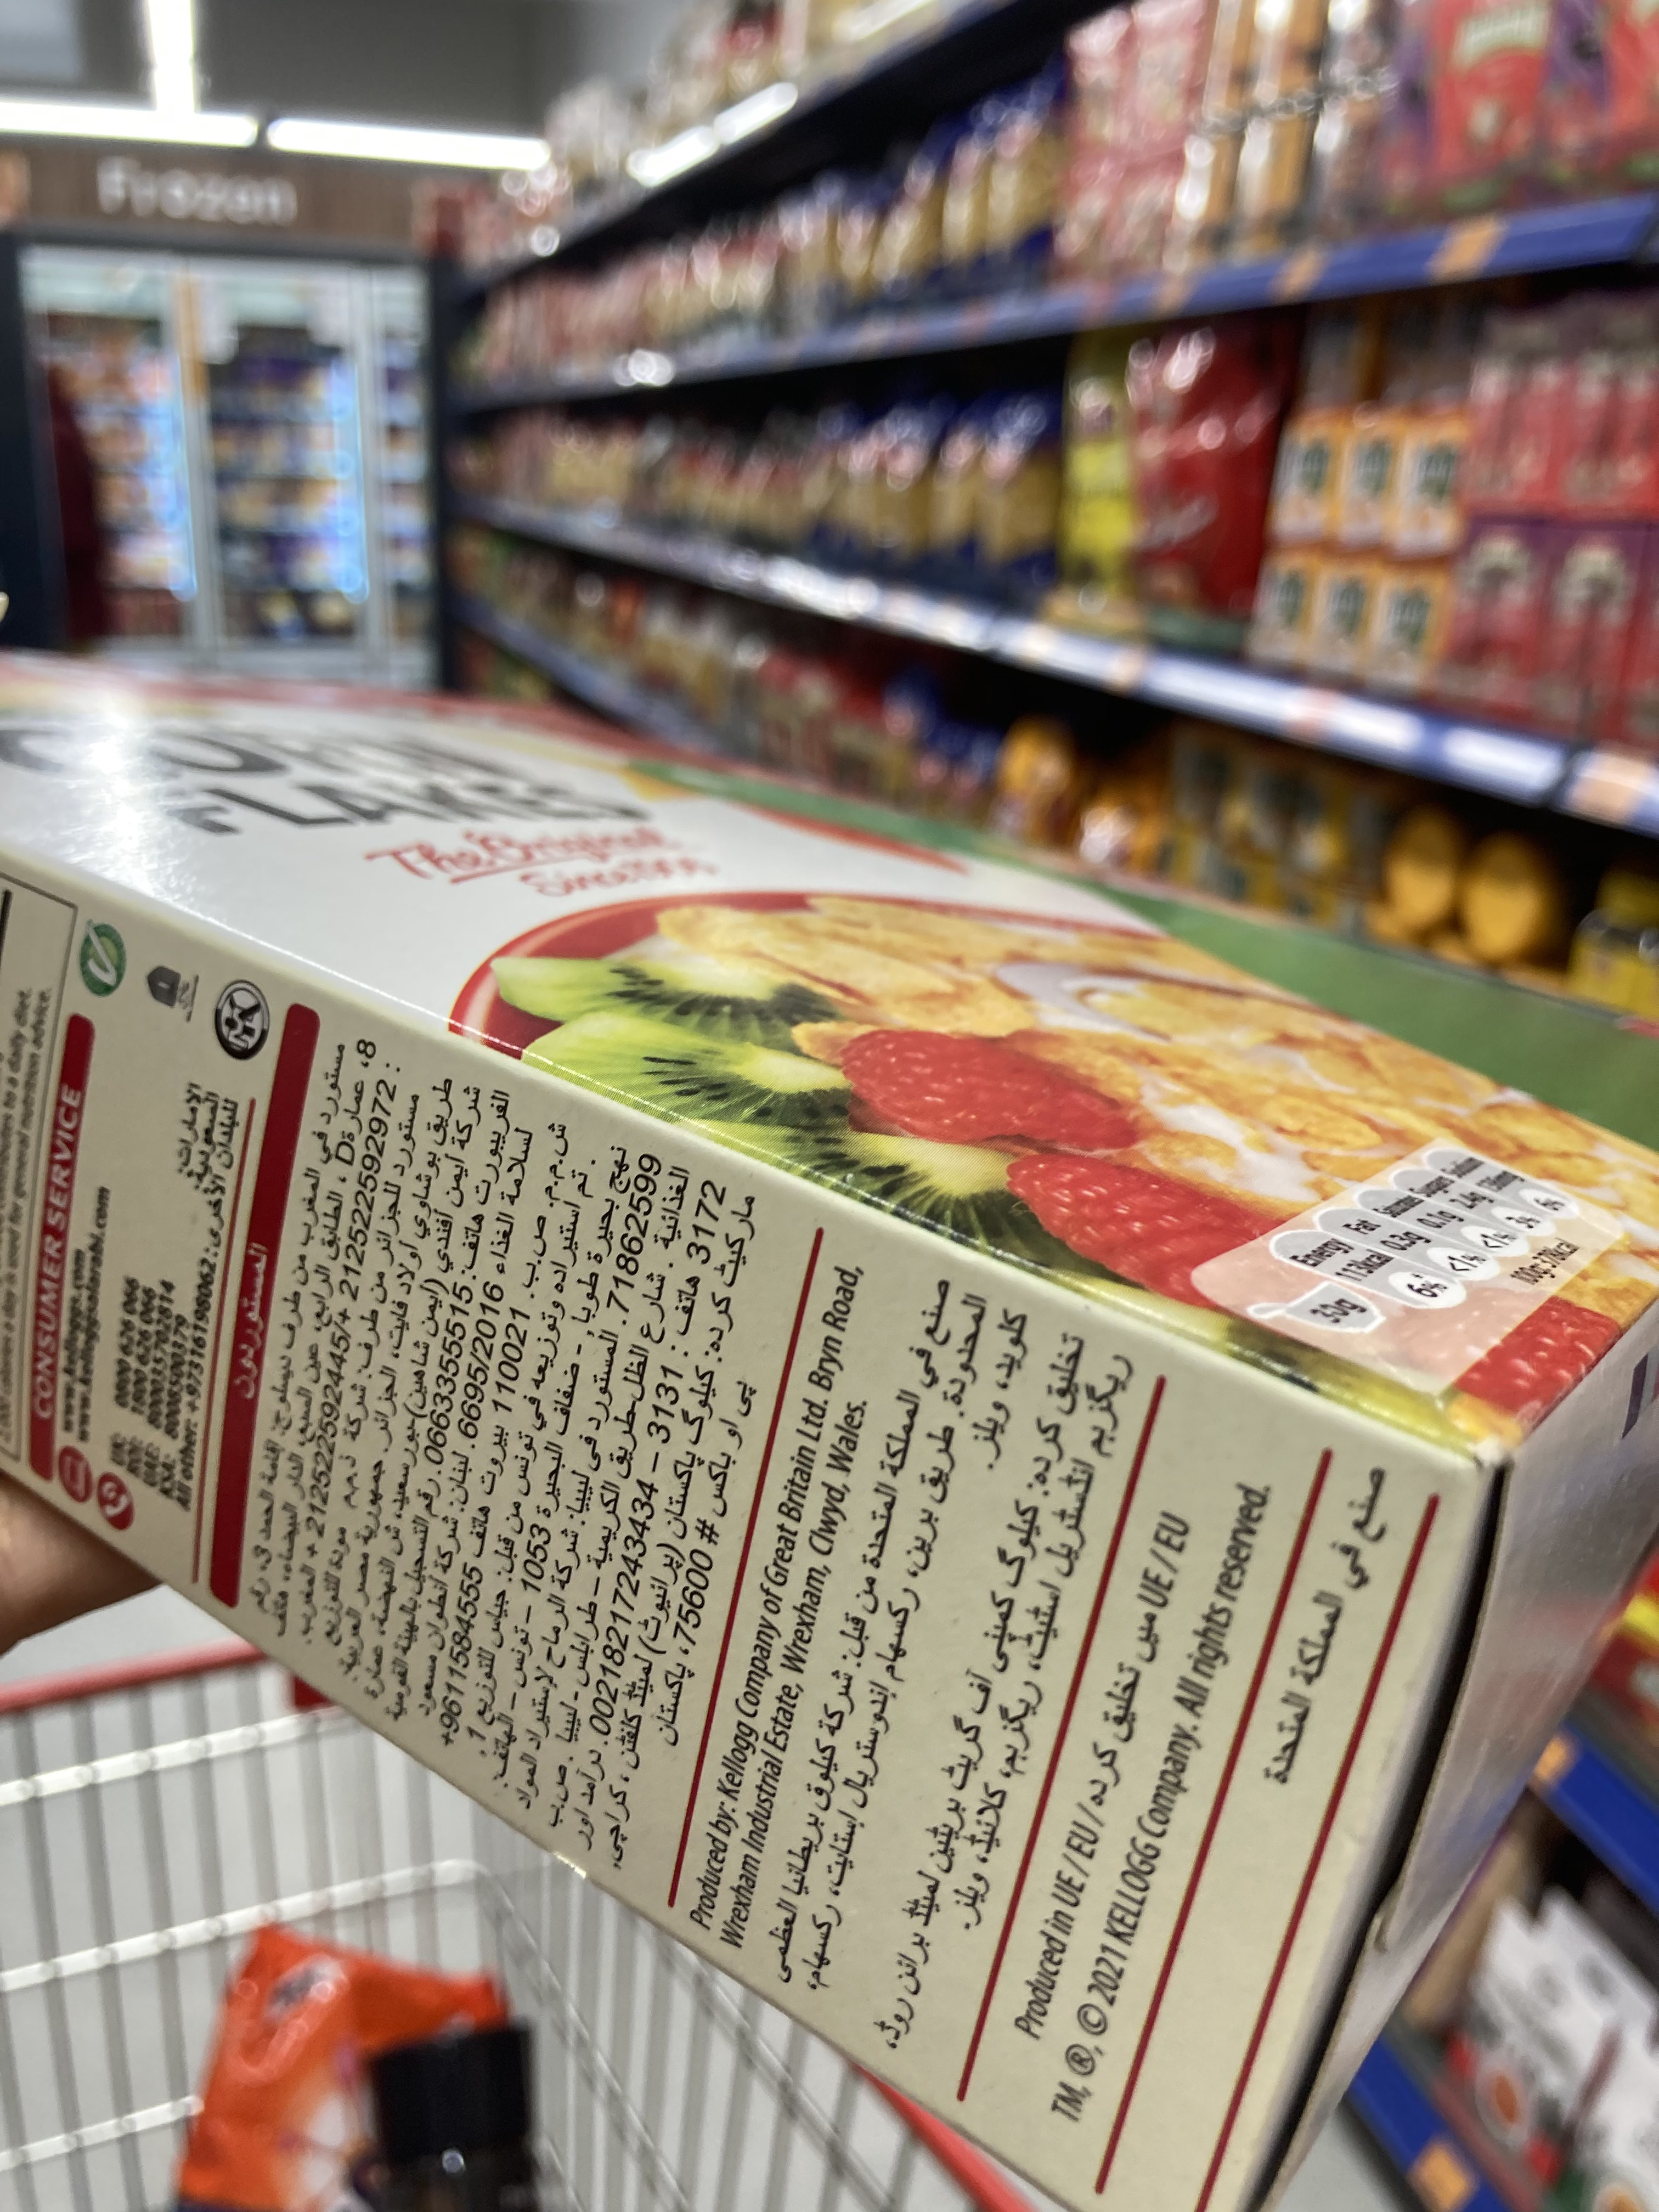Kellogg's Corn Flakes: (5, 625, 1659, 2212)
